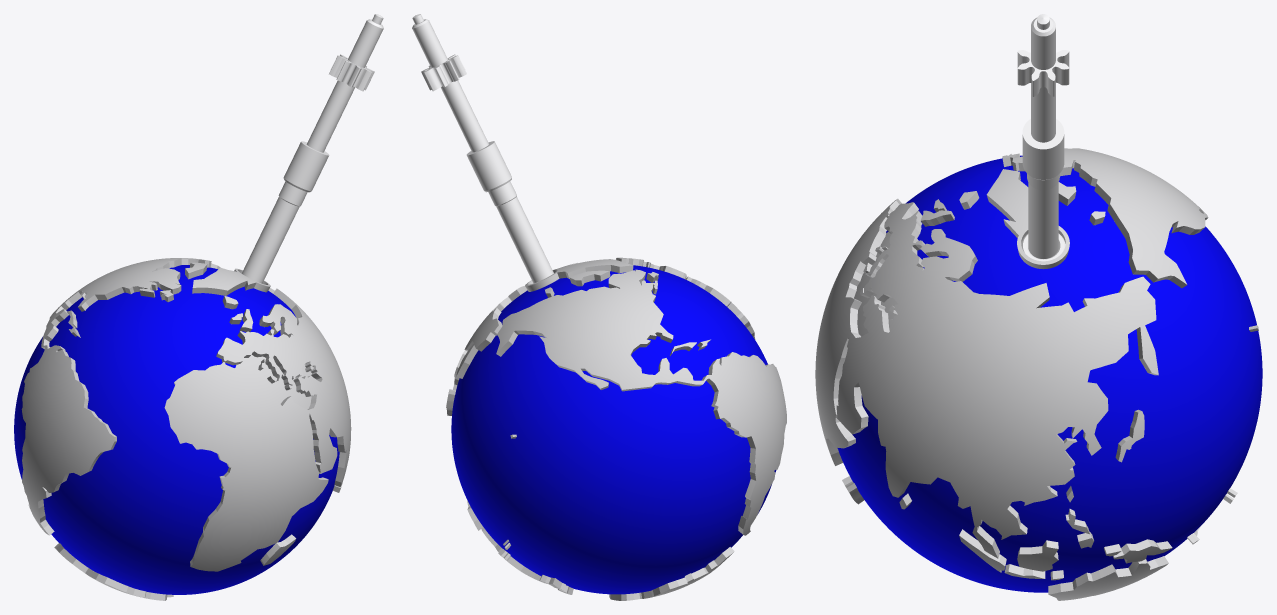
File: globe_white_gold.glb
3 views of the same model, side by side, from view 1: azimuth 30°, elevation 25°; view 2: azimuth 150°, elevation 25°; view 3: azimuth 270°, elevation 25° (orthographic). The views are drawn at different scales.
Parts seen in each view (by area): view 1: astronomia:NONE.006, astronomia:Importée1.202; view 2: astronomia:NONE.006, astronomia:Importée1.202; view 3: astronomia:NONE.006, astronomia:Importée1.202.
Part boxes in pixels (left/top/right/bottom): astronomia:NONE.006: left=14, top=258, right=351, bottom=600; astronomia:Importée1.202: left=242, top=14, right=383, bottom=283; astronomia:NONE.006: left=446, top=257, right=786, bottom=600; astronomia:Importée1.202: left=412, top=14, right=553, bottom=283; astronomia:NONE.006: left=815, top=148, right=1262, bottom=600; astronomia:Importée1.202: left=1017, top=14, right=1069, bottom=258.
Bounding box in the file's own units: 0.00971 × 0.0138 × 0.00804.
